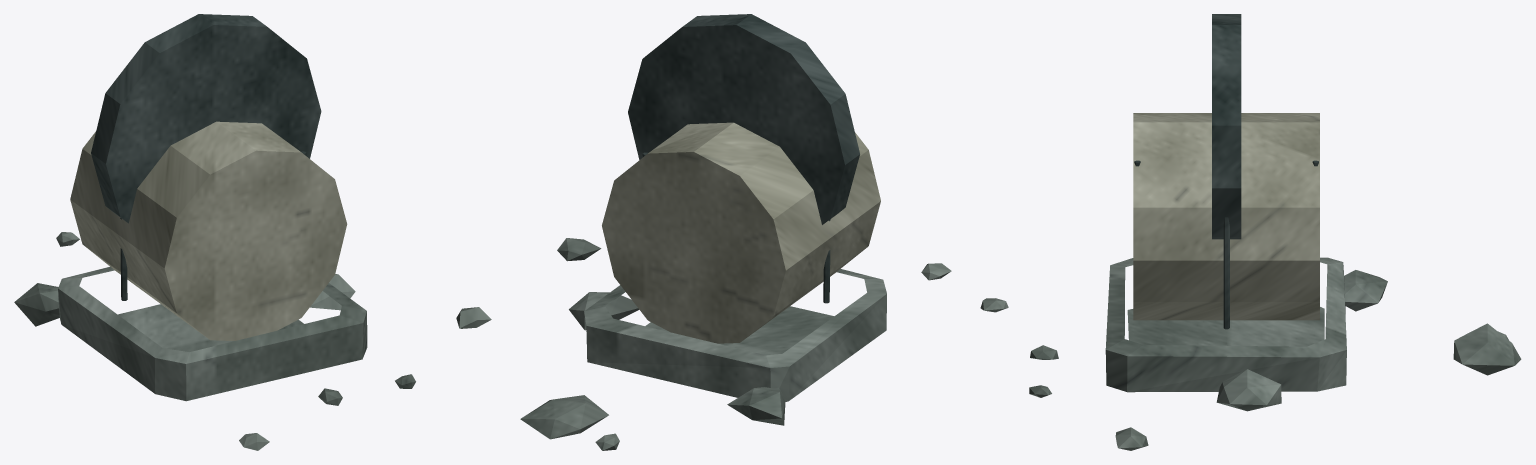
Rendered from 0270_broken_column_20.glb.
The picture shows the model from 3 angles, left to right: view 1: azimuth 30°, elevation 25°; view 2: azimuth 150°, elevation 25°; view 3: azimuth 270°, elevation 25°; orthographic projection. The views are drawn at different scales.
Parts seen in each view (by area): view 1: stone_light, stone_dark, stone; view 2: stone_light, stone_dark, stone; view 3: stone_light, stone, stone_dark.
Boxes of the visible parts, left/top/right/bottom form: stone_light: left=70, top=121, right=347, bottom=340; stone_dark: left=91, top=14, right=321, bottom=300; stone: left=14, top=232, right=491, bottom=450; stone_light: left=602, top=122, right=880, bottom=343; stone_dark: left=628, top=14, right=859, bottom=303; stone: left=520, top=238, right=951, bottom=450; stone_light: left=1133, top=113, right=1319, bottom=320; stone: left=980, top=257, right=1521, bottom=450; stone_dark: left=1134, top=14, right=1318, bottom=329.
Size of the model in its own units: 2 by 1.82 by 2.75.
Materials: 3 (3 with a texture image).
